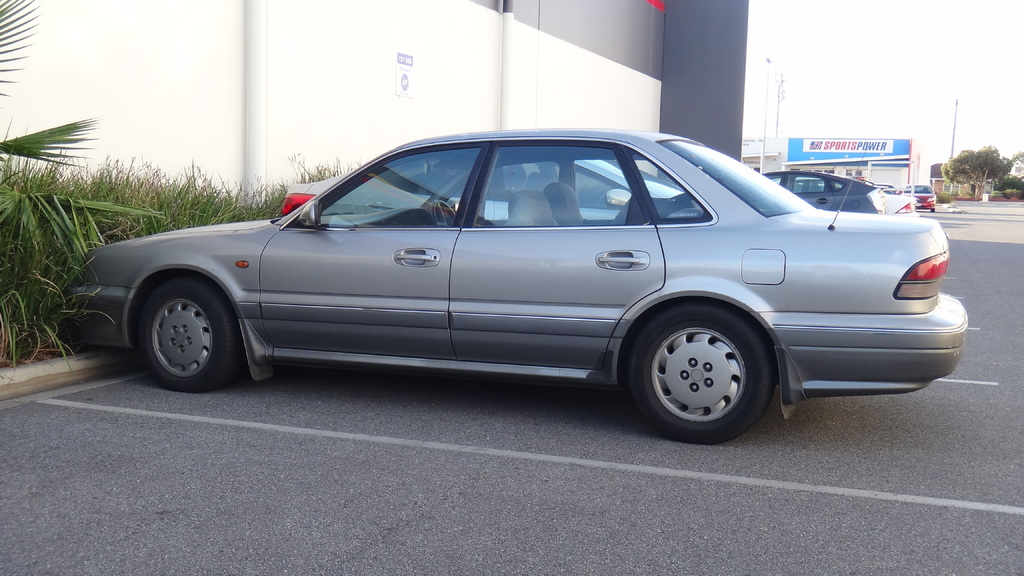Car: (62, 129, 977, 432), (758, 165, 877, 213), (901, 182, 936, 211), (886, 187, 919, 213)
